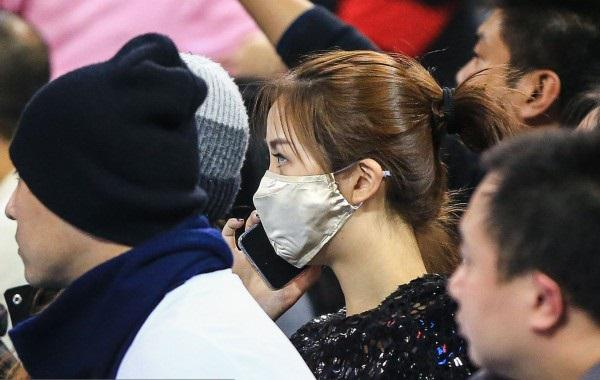NONE: (446, 242, 557, 372), (2, 163, 83, 289), (448, 36, 532, 142)
OK: (251, 132, 377, 258)
